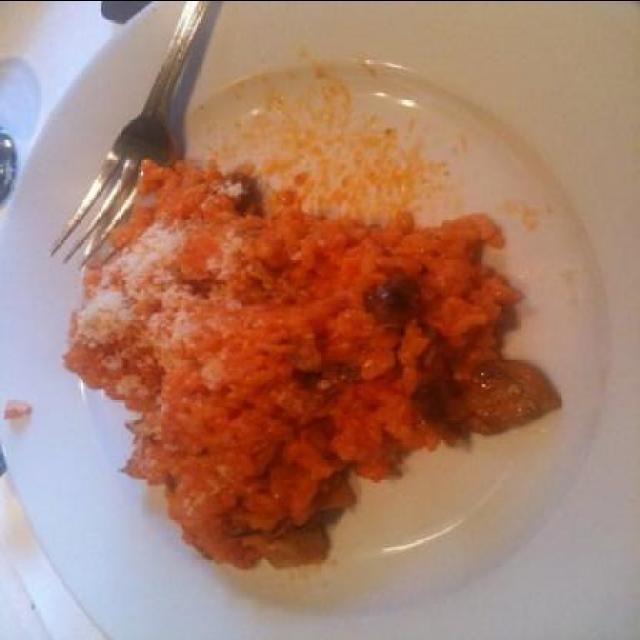Risotto: (73, 118, 544, 568)
